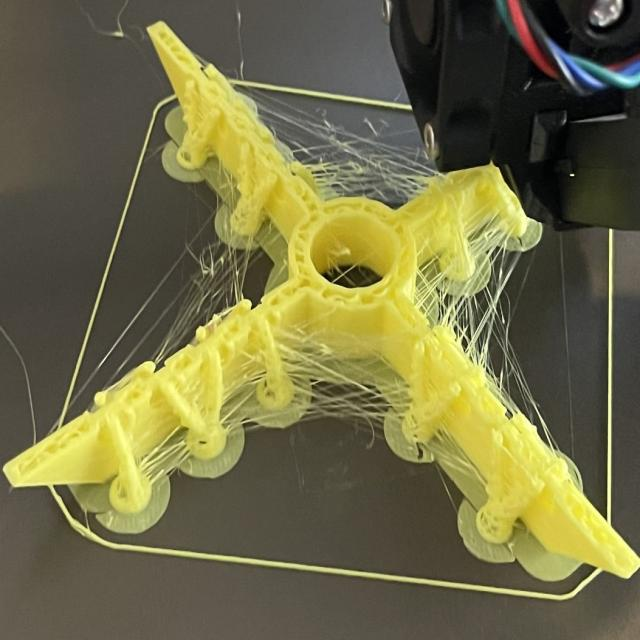Stringing: (427, 242, 541, 416), (275, 342, 419, 444), (166, 214, 270, 348), (280, 118, 428, 203)
